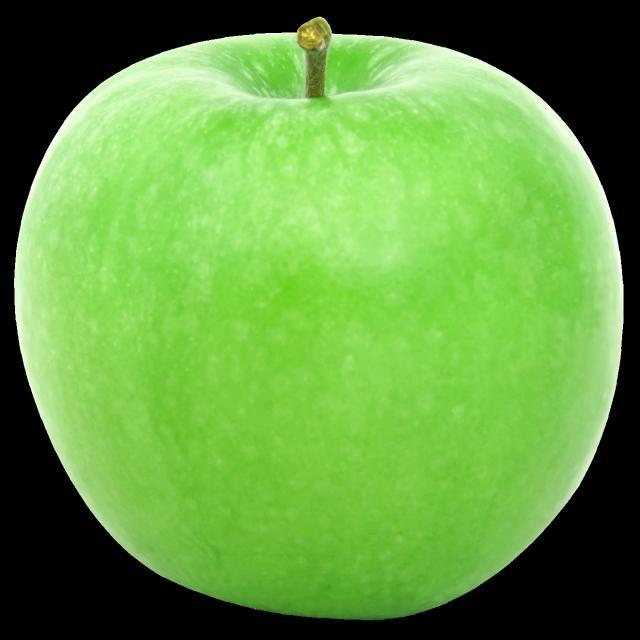Apple: (17, 16, 628, 618)
